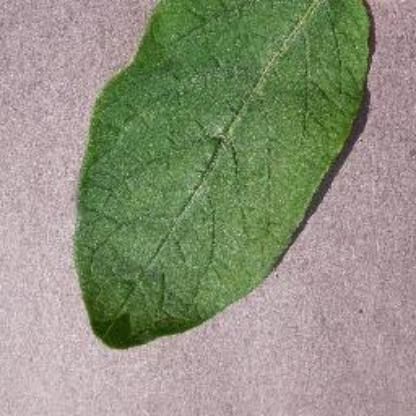Healthy-plant: (70, 0, 370, 354)
